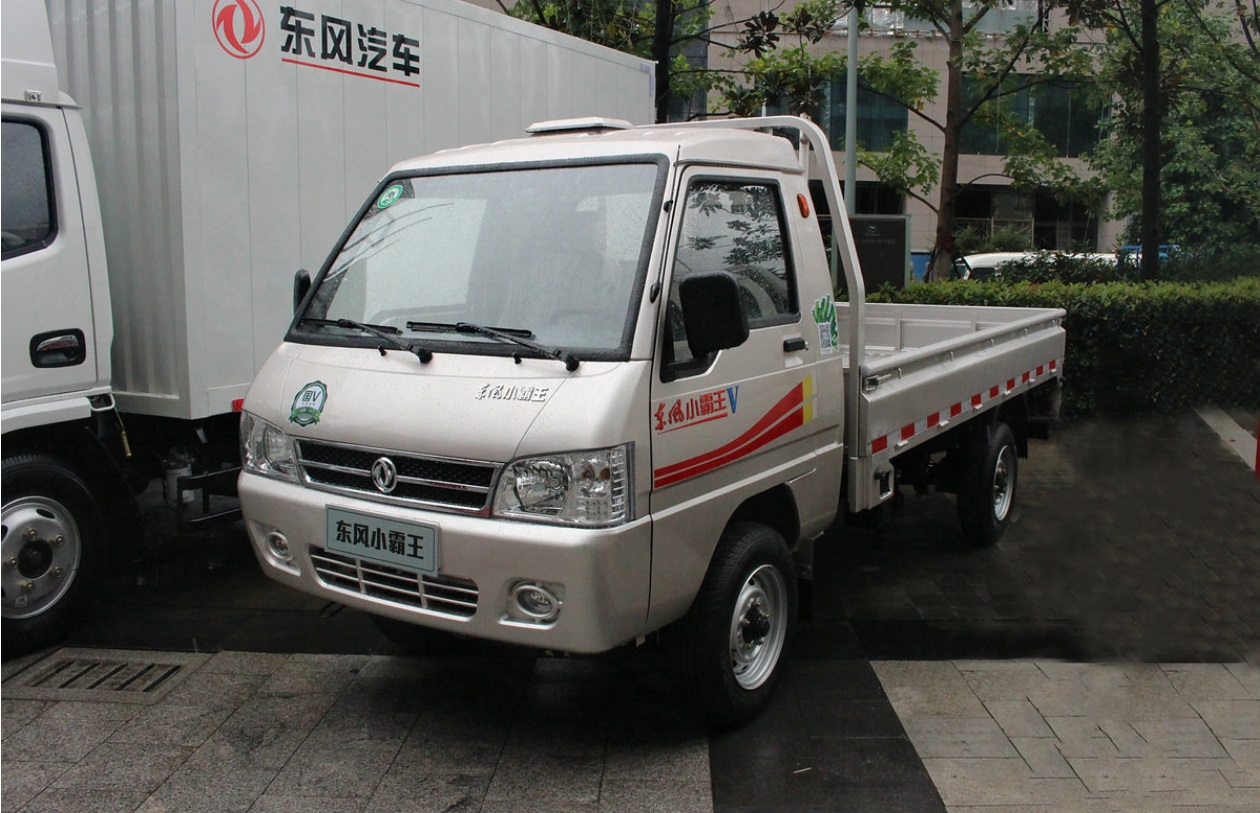truck: (235, 111, 1072, 713)
